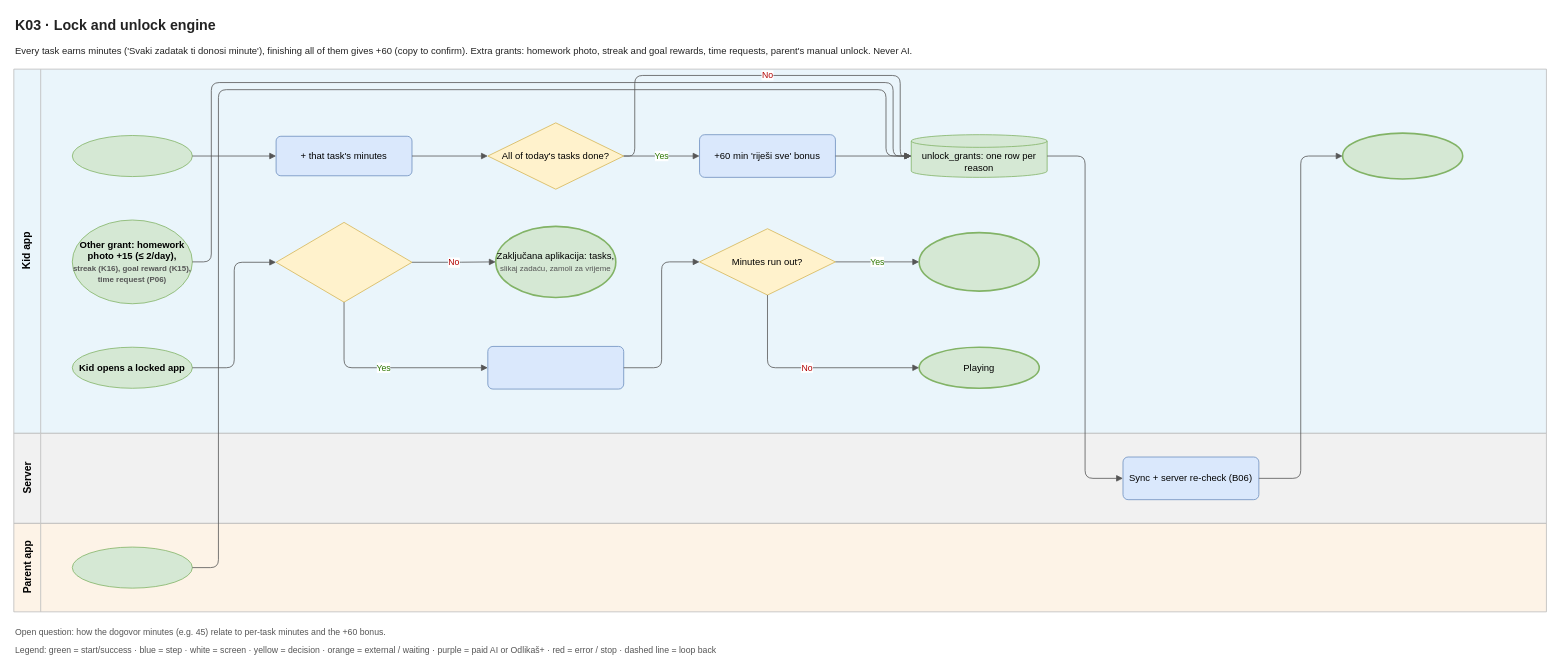
This 1560x671 diagram has some shape labels left out. Here are the shapes that lost their labels. From the top down, the centre of each, then its label:
point 131,156: A task becomes done
point 1402,155: Otključano: minutes added
point 343,262: Minutes left today? (grants − used)
point 979,261: Vrijeme isteklo → zamoli još 15 min / početna
point 555,367: Allow; count usage_daily minutes
point 131,567: Parent: Otključaj ručno
